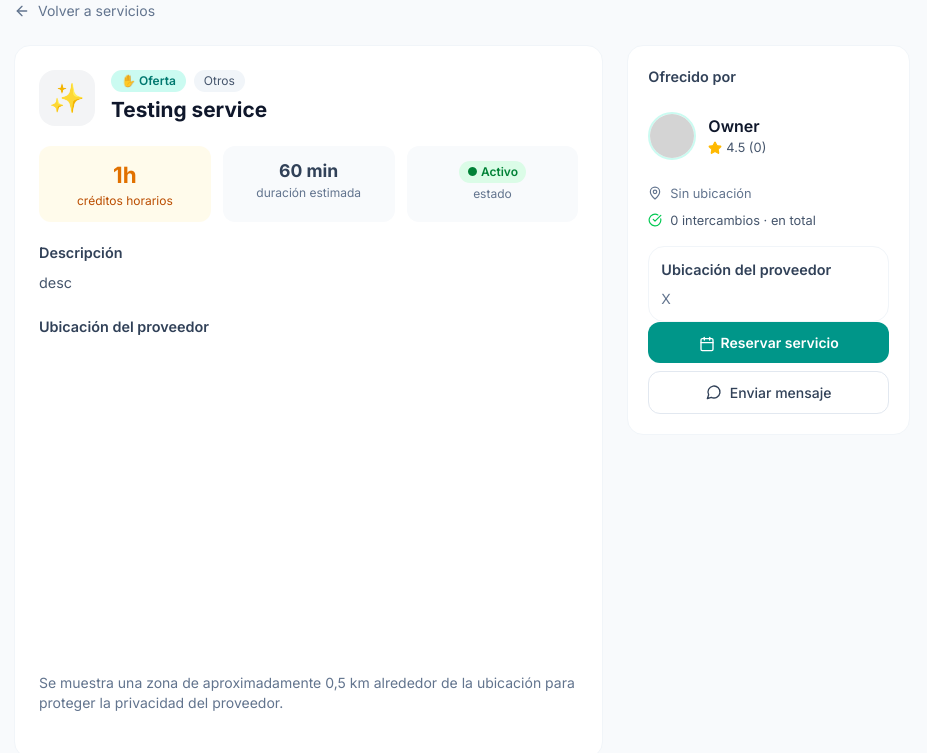
ServiceDetail › validates missing date when trying to book
// open booking
Click the button "Reservar servicio".
click(769, 342)  # box [648,322,889,363]
(page scrolled)
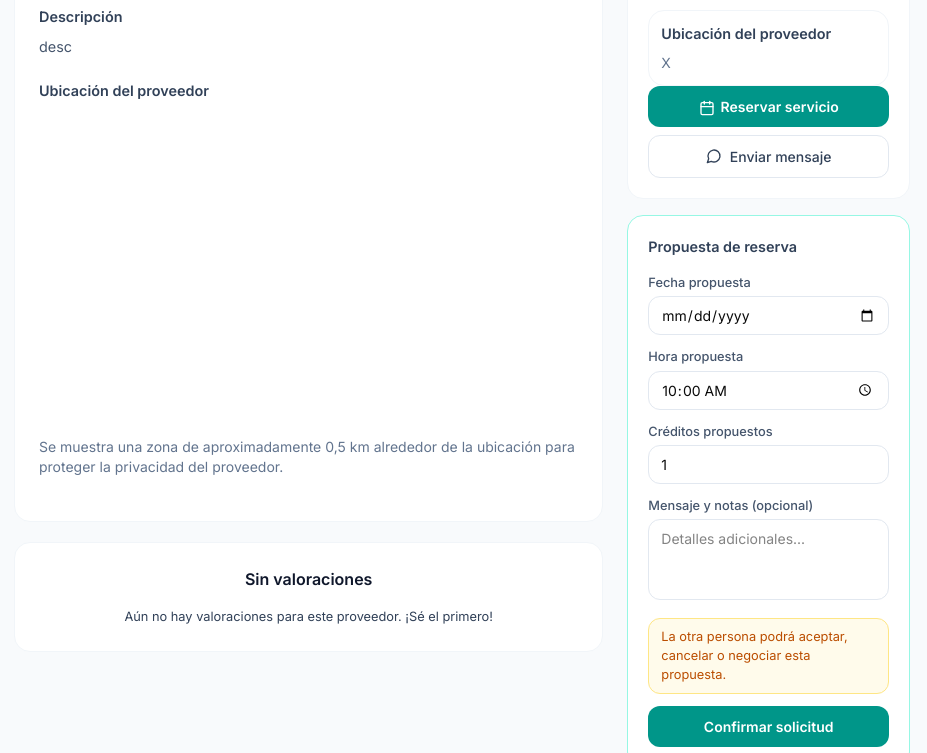
// click confirm without selecting date
Click the button "Confirmar solicitud".
click(769, 726)  # box [648,706,889,746]
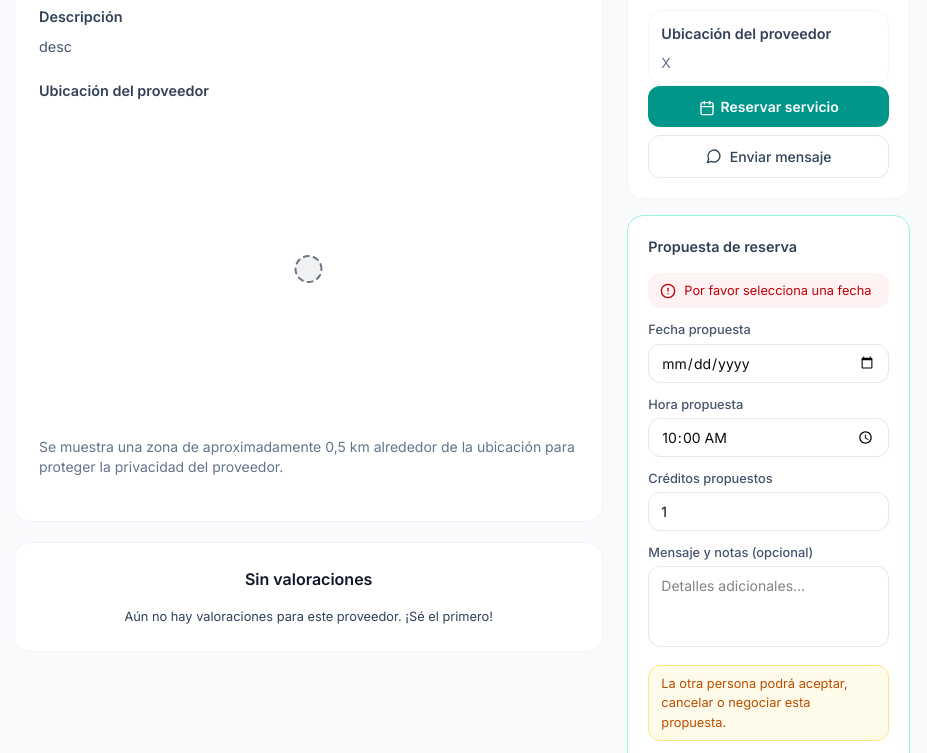
Result: the text "Por favor selecciona una fecha" is shown at [684,281,871,300]
